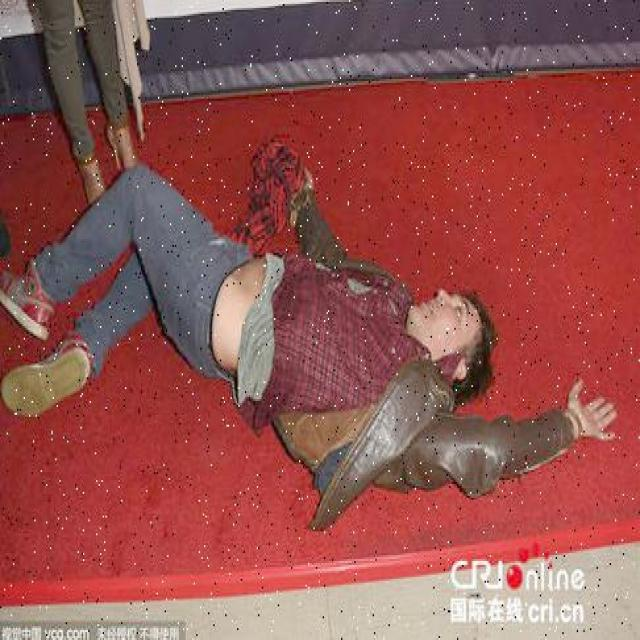fall: (18, 156, 602, 512)
